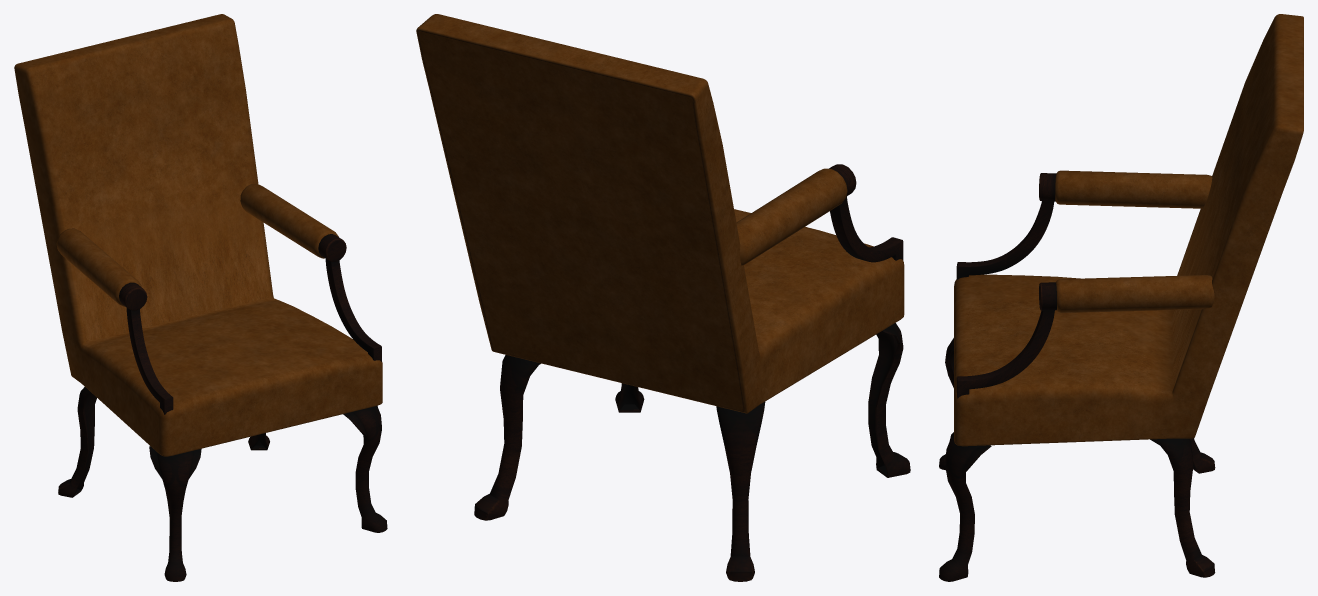
File: ChairRetro03.FBX
3 renders of one model, left to right at view 1: azimuth 30°, elevation 25°; view 2: azimuth 150°, elevation 25°; view 3: azimuth 270°, elevation 25°, orthographic. The views are drawn at different scales.
Visible parts, largest first — view 1: ChairRetro03; view 2: ChairRetro03; view 3: ChairRetro03.
Part boxes in pixels (x1,y1,x2,y2): ChairRetro03: (14,14,387,581); ChairRetro03: (416,14,910,581); ChairRetro03: (939,14,1303,581).
Bounding box in the file's own units: 0.6419 × 1.09 × 0.7978.
